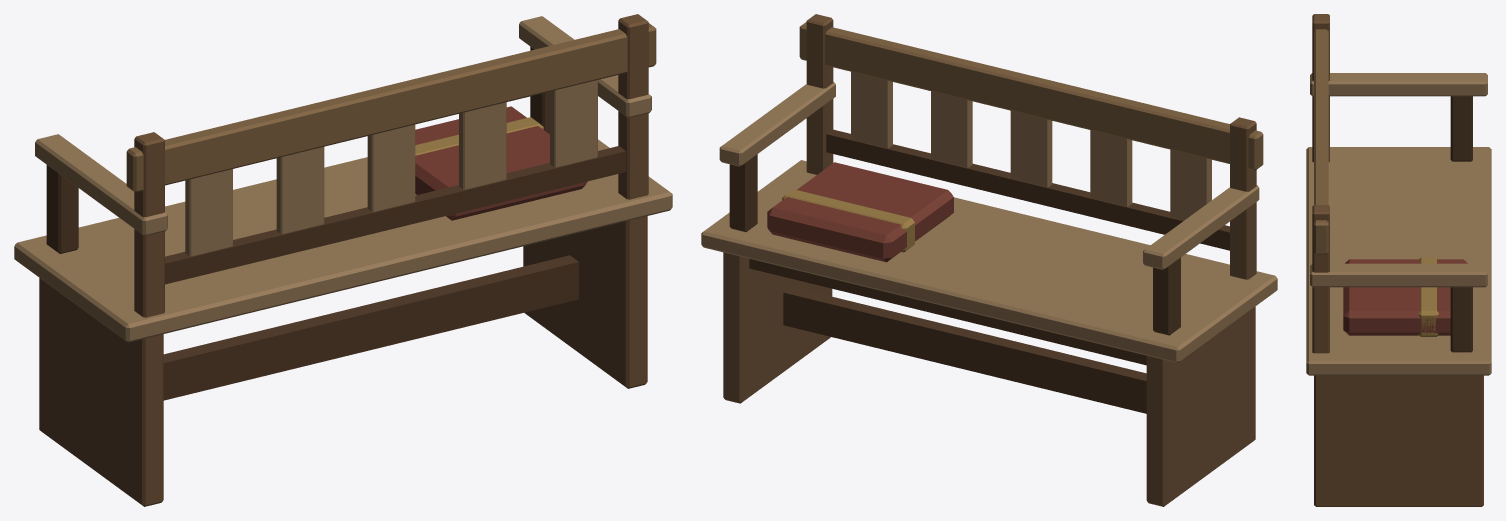
File: prop_bench.glb
3 renders of one model, left to right at view 1: azimuth 30°, elevation 25°; view 2: azimuth 150°, elevation 25°; view 3: azimuth 270°, elevation 25°, orthographic. The views are drawn at different scales.
Visible parts, largest first — view 1: prop_bench; view 2: prop_bench; view 3: prop_bench.
Part boxes in pixels (box(x1,y1,x2,y2)): prop_bench: box(14, 14, 672, 506); prop_bench: box(701, 14, 1277, 506); prop_bench: box(1306, 14, 1491, 506).
Size of the model in its own units: 1.38 by 0.88 by 0.5.
